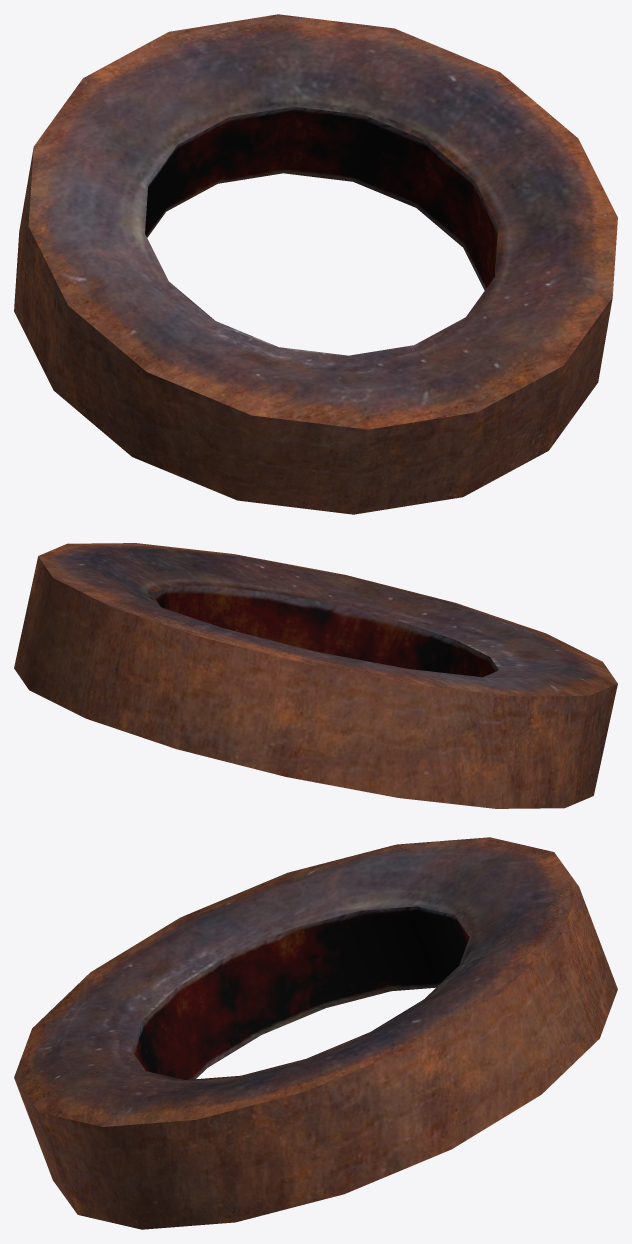
The model's file is junk_scrap_06.glb.
3 renders of one model, top to bottom at view 1: azimuth 30°, elevation 25°; view 2: azimuth 150°, elevation 25°; view 3: azimuth 270°, elevation 25°, orthographic.
Parts seen in each view (by area): view 1: junk_scrap_06; view 2: junk_scrap_06; view 3: junk_scrap_06.
Boxes of the visible parts, x1=… form: junk_scrap_06: x1=14, y1=14, x2=617, y2=514; junk_scrap_06: x1=14, y1=543, x2=617, y2=808; junk_scrap_06: x1=14, y1=837, x2=617, y2=1229.
Size of what is drawn, in the model's own units: 0.6052 by 0.3086 by 0.6057.
1 material, 1 textured.
